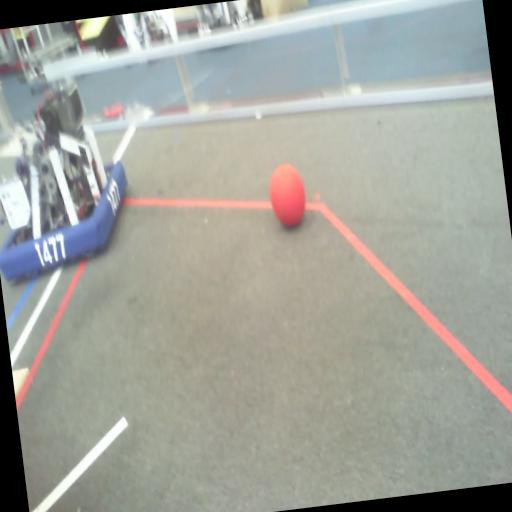robot: (0, 87, 133, 267)
